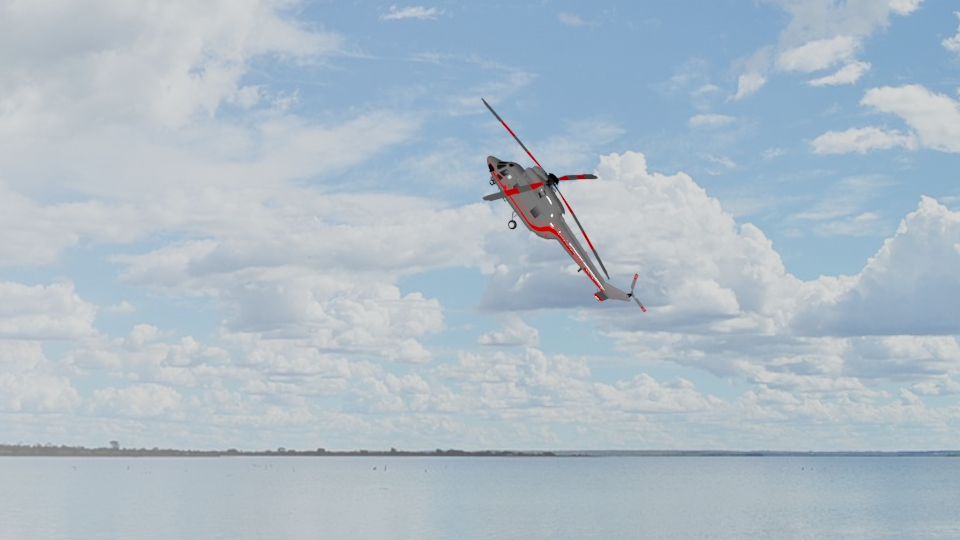heli: (472, 96, 646, 311)
